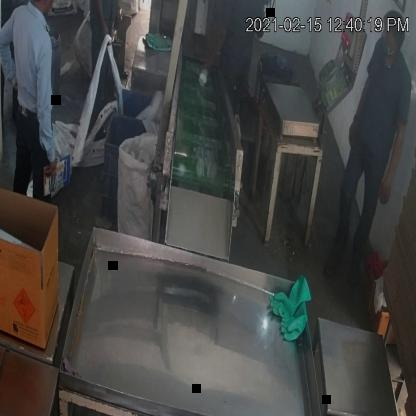glove: (262, 272, 319, 348)
no_glove: (31, 33, 60, 183), (375, 108, 412, 218), (202, 20, 230, 90), (0, 13, 18, 100), (92, 0, 112, 49)
